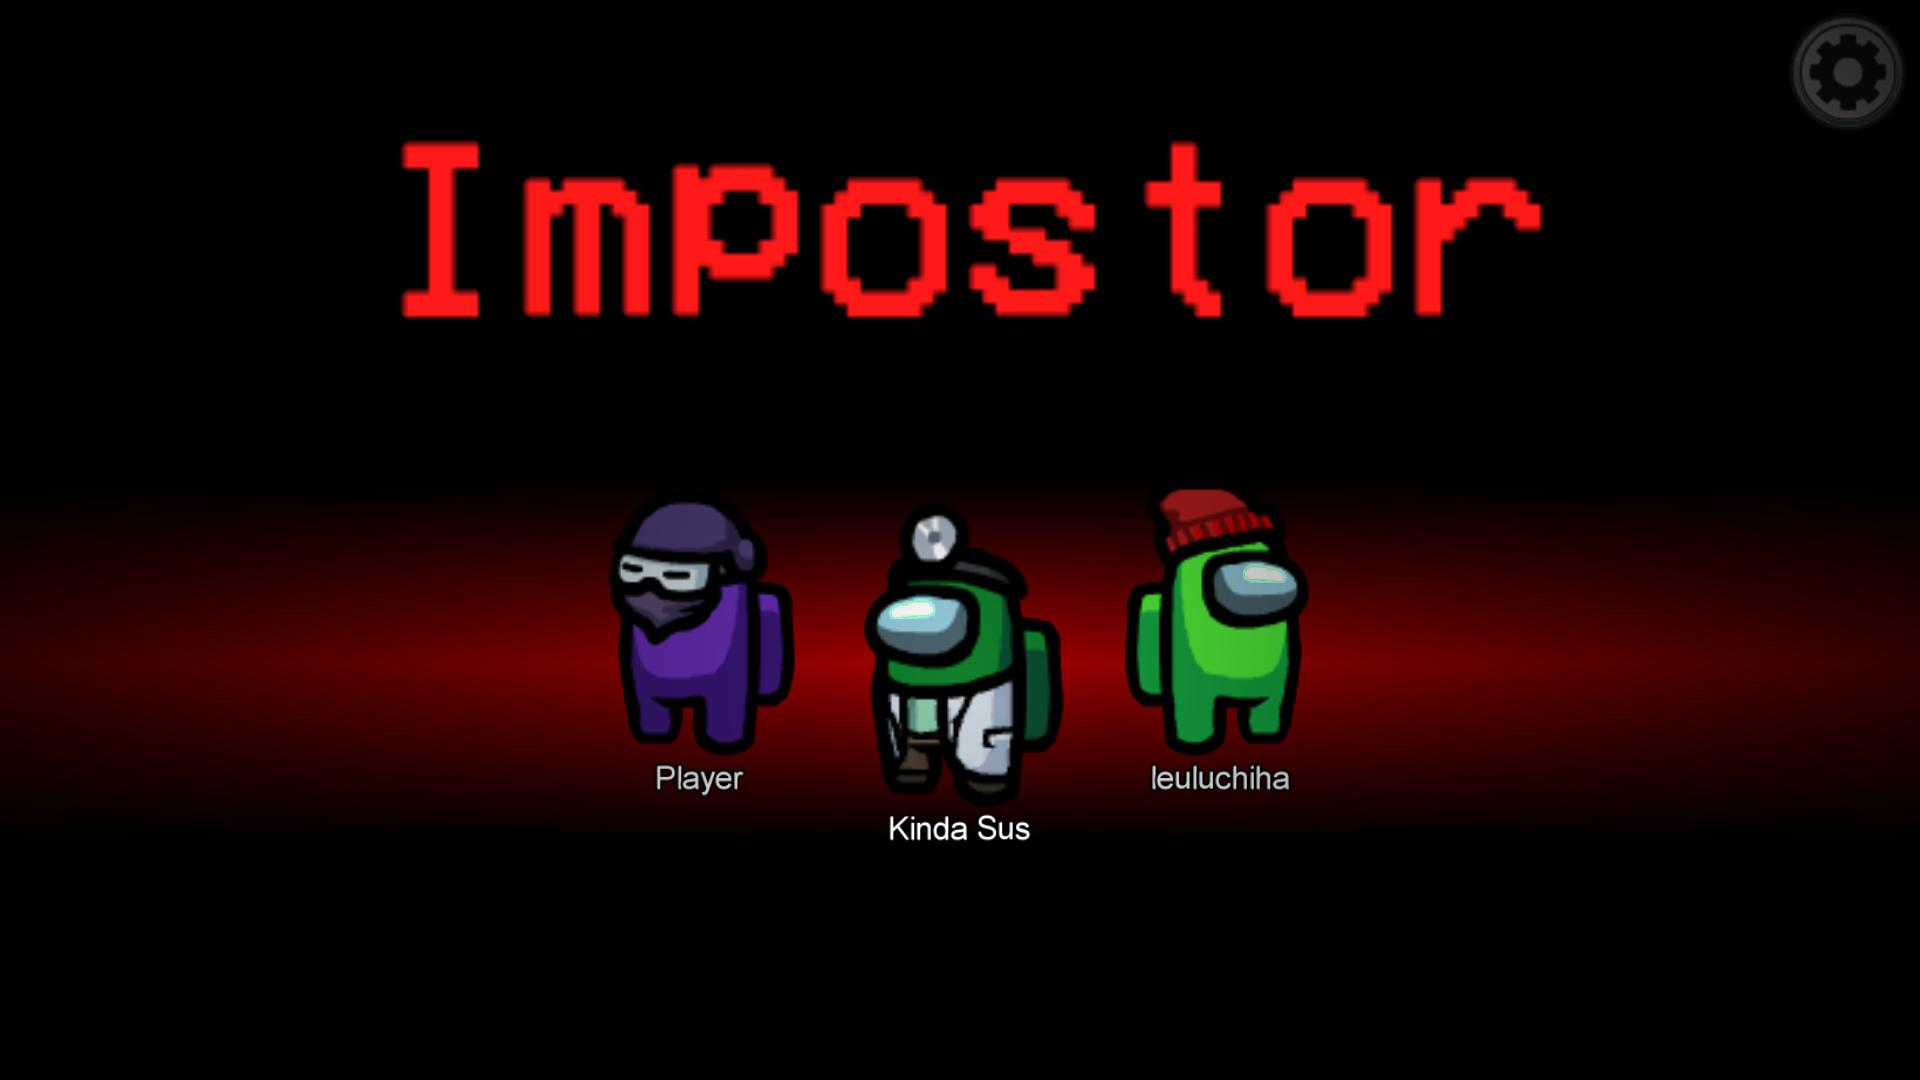amongus: (864, 547, 1060, 791), (611, 497, 798, 744), (1125, 513, 1303, 748)
